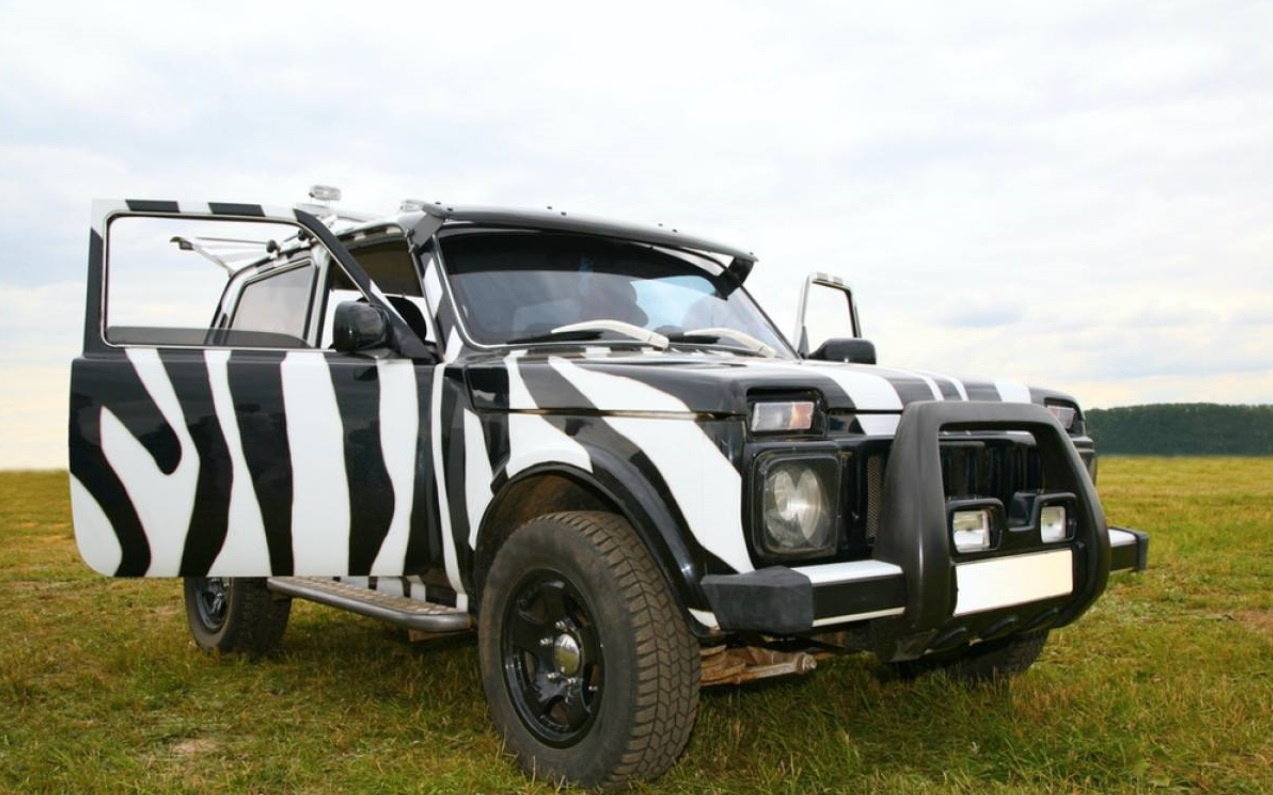jeep: (74, 151, 1150, 771)
